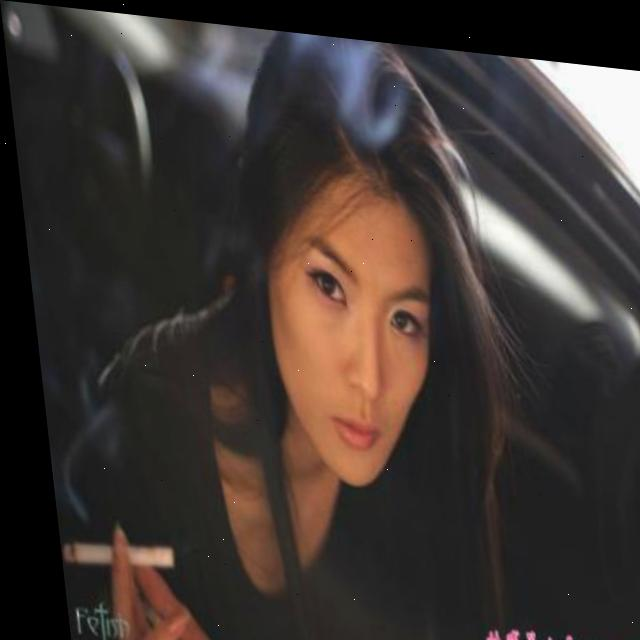cigarette: (47, 534, 167, 575)
